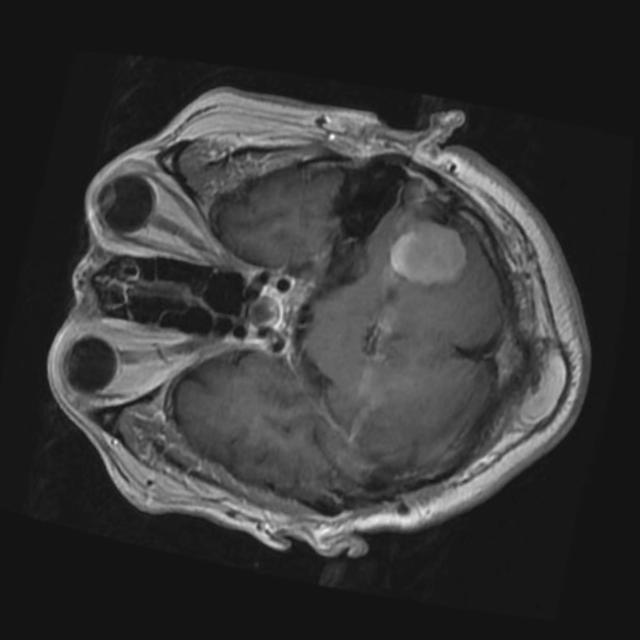Meningioma: (382, 216, 475, 292)
